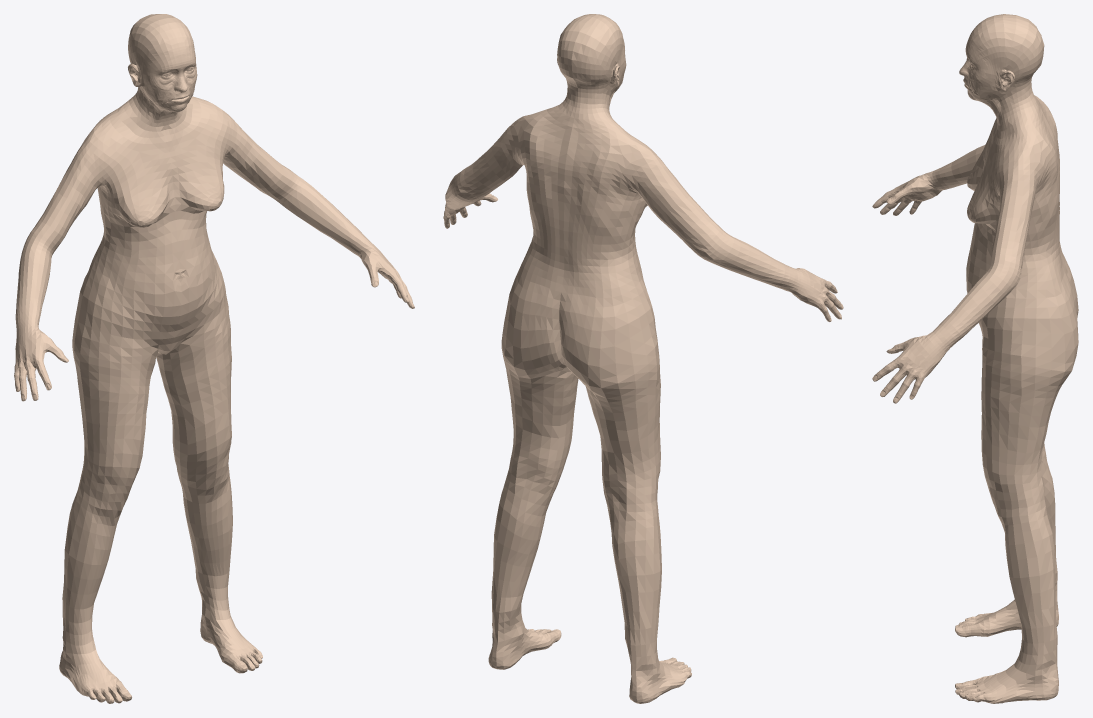
File: female-elder-heavy-toned.glb
3 renders of one model, left to right at view 1: azimuth 30°, elevation 25°; view 2: azimuth 150°, elevation 25°; view 3: azimuth 270°, elevation 25°, orthographic.
Visible parts, largest first — view 1: world; view 2: world; view 3: world.
Part boxes in pixels (box(x1,y1,x2,y2)): world: box(14, 14, 414, 703); world: box(443, 14, 843, 703); world: box(872, 14, 1078, 703).
Size of the model in its own units: 1.13 by 1.8 by 0.5199.
